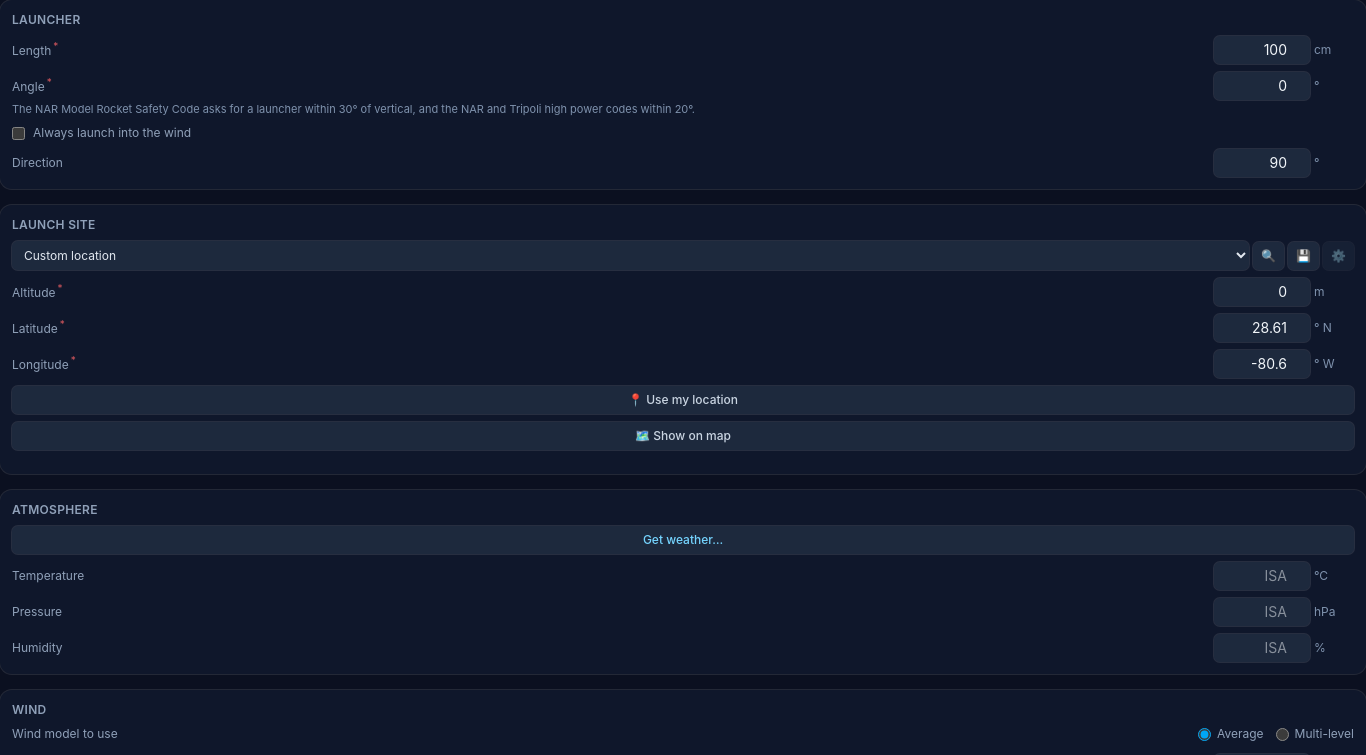
Test: weather and the forecast atmosphere › offers the Weather dialog only where asked (the simulation editor, not the Settings defaults)
Click the button "Get weather…" at [683, 540], box [12,526,1354,554]
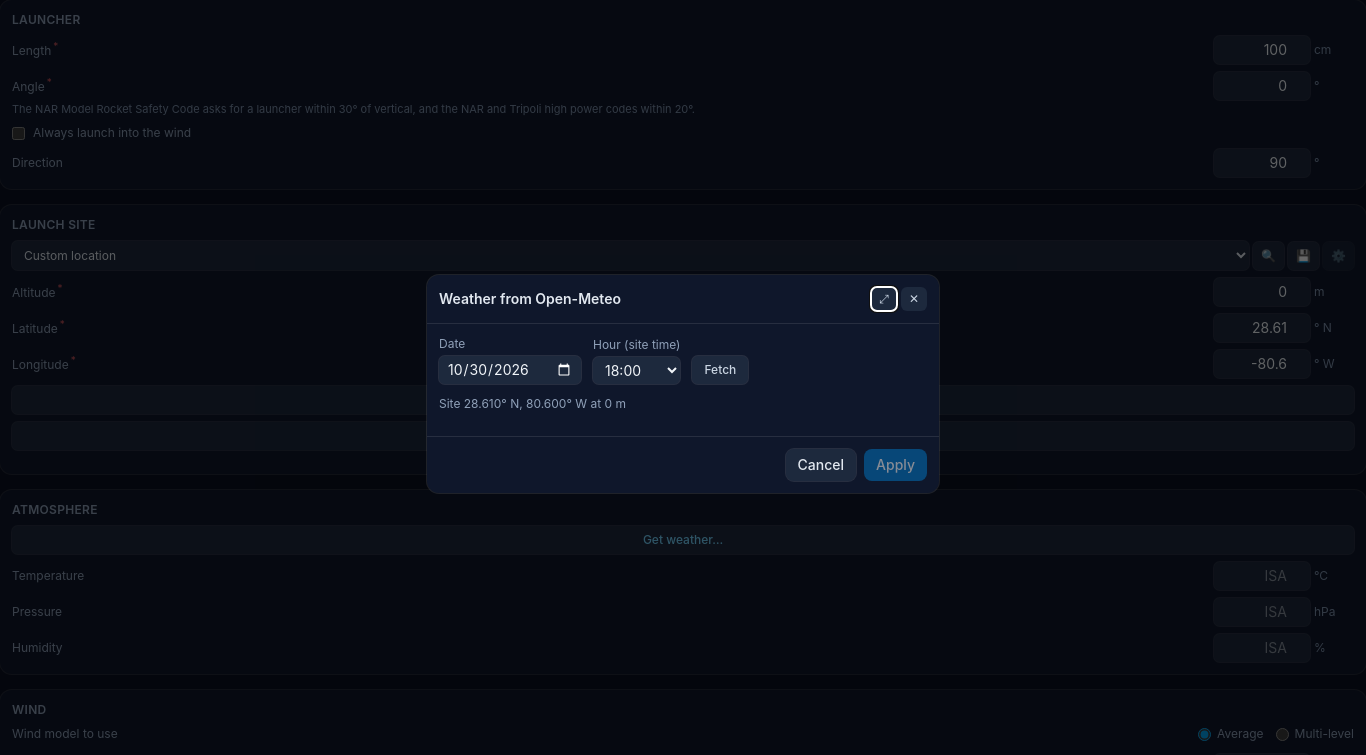
Result: the dialog "Weather from Open-Meteo" is shown at [427,275,939,493]
